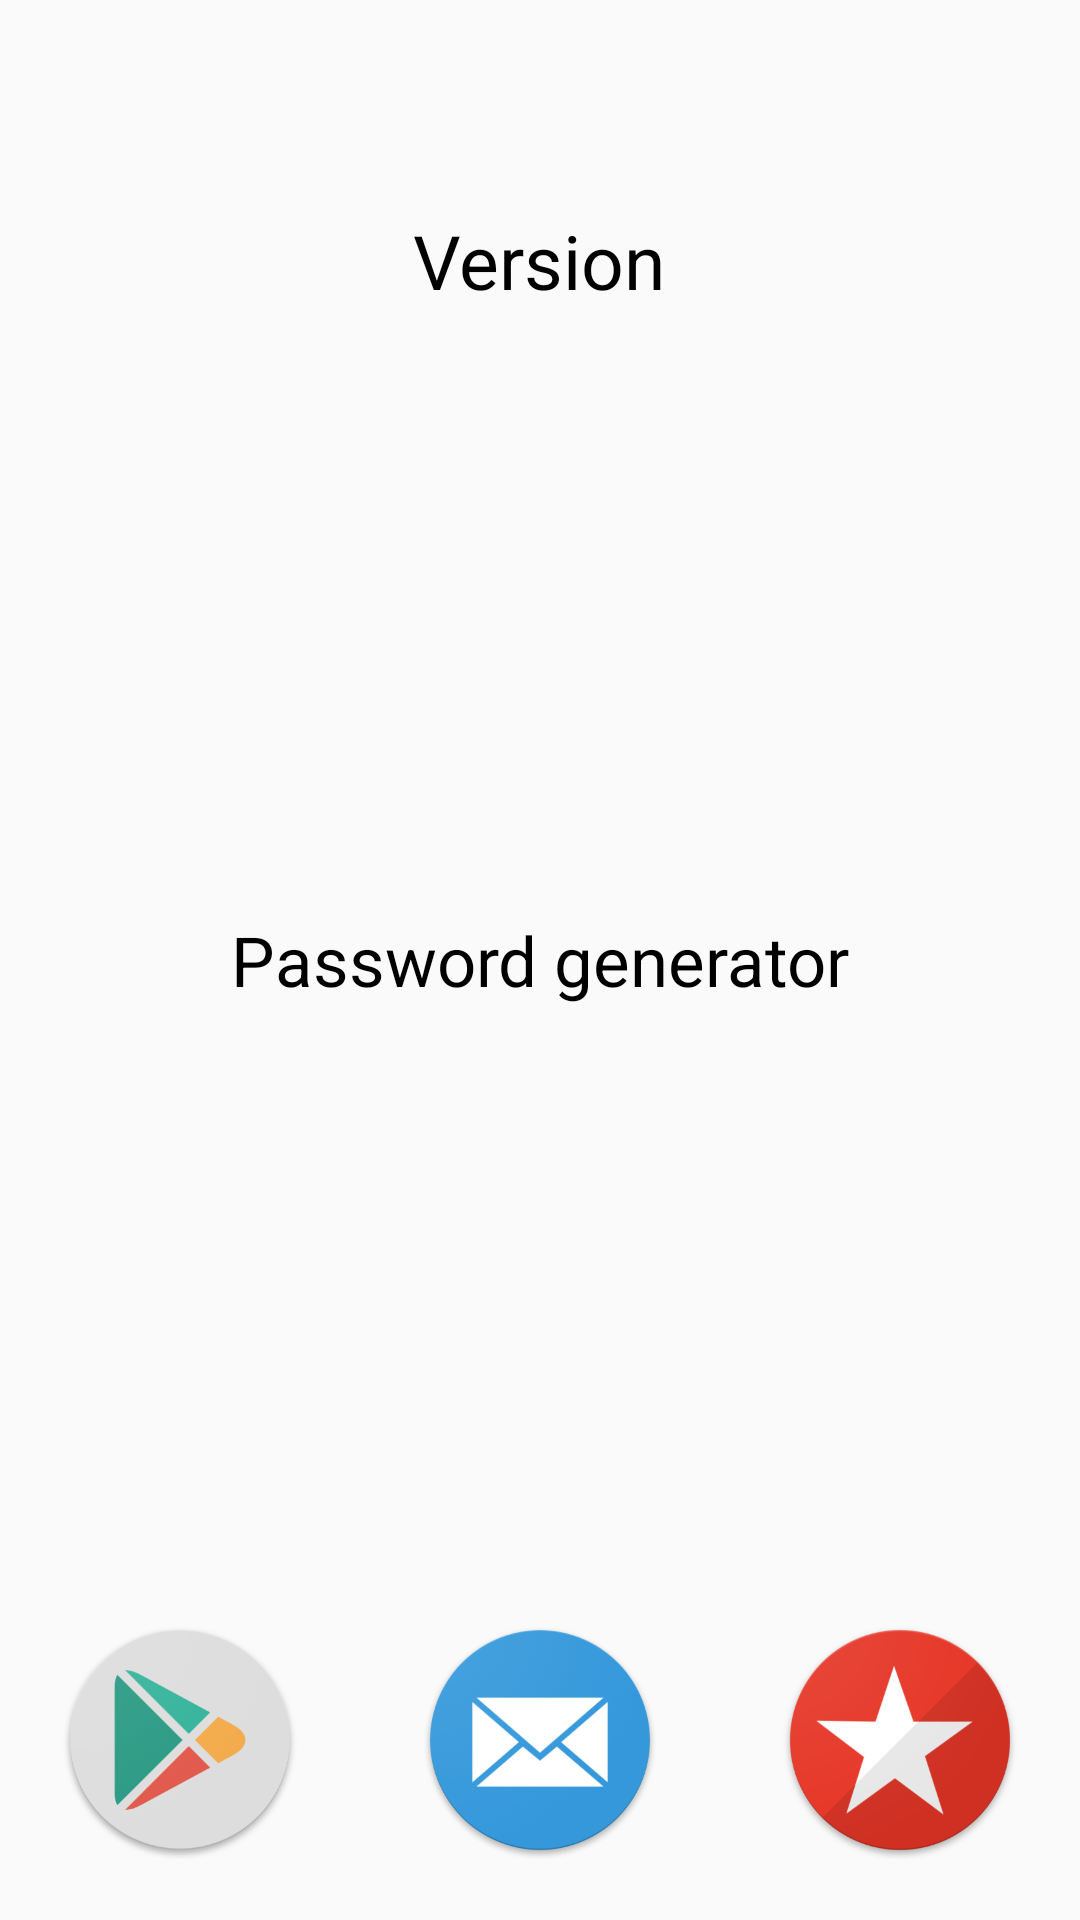

Where to tap for icons on this 1080 × 1920 app screen, as [x,y]:
mail: [540,1742]
rate: [900,1742]
